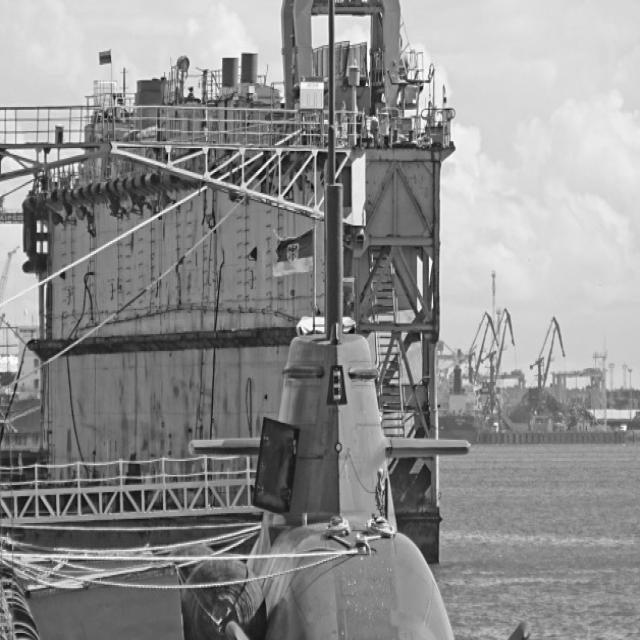submarine: (185, 1, 544, 640)
